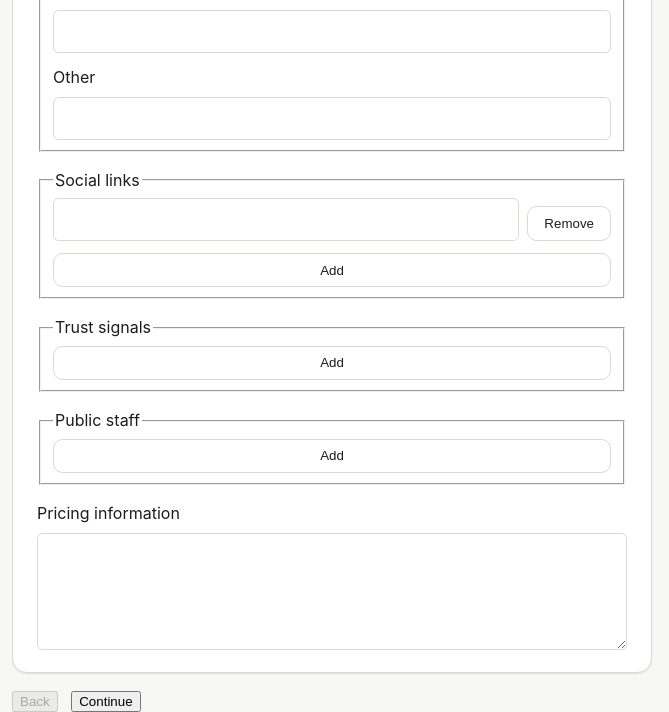
Test case: DeeperOnboardingFlow › failed Continue does not advance
(page scrolled)
Click the button "Continue".
click(106, 701)  # box [71,691,141,711]
(page scrolled)
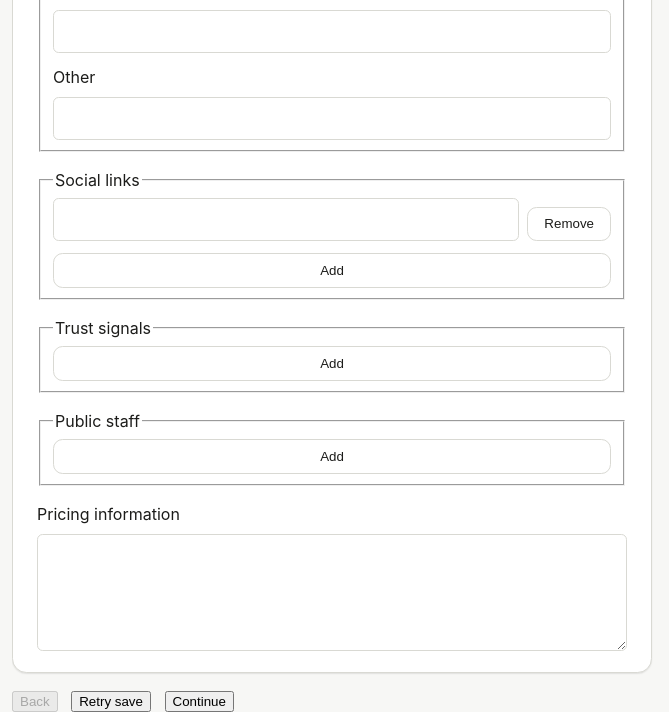
Expected: the button "Retry save" is shown, [71,691,151,711]
